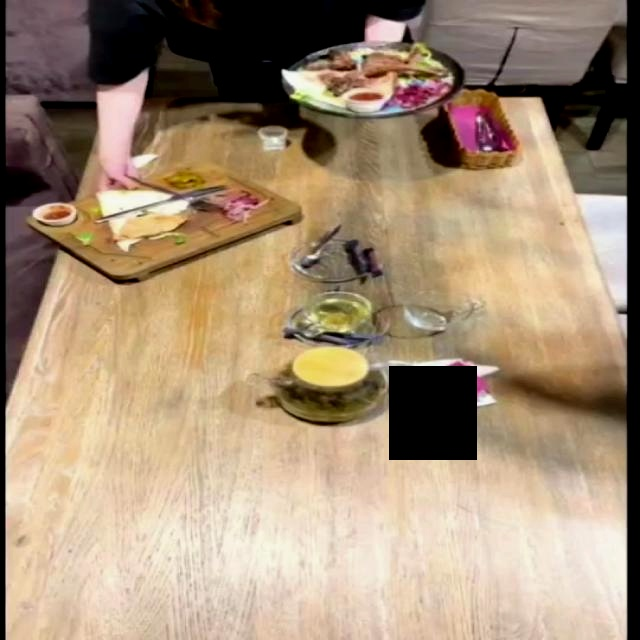meat: (18, 162, 308, 294), (268, 43, 469, 126)
tea: (280, 342, 427, 418)
